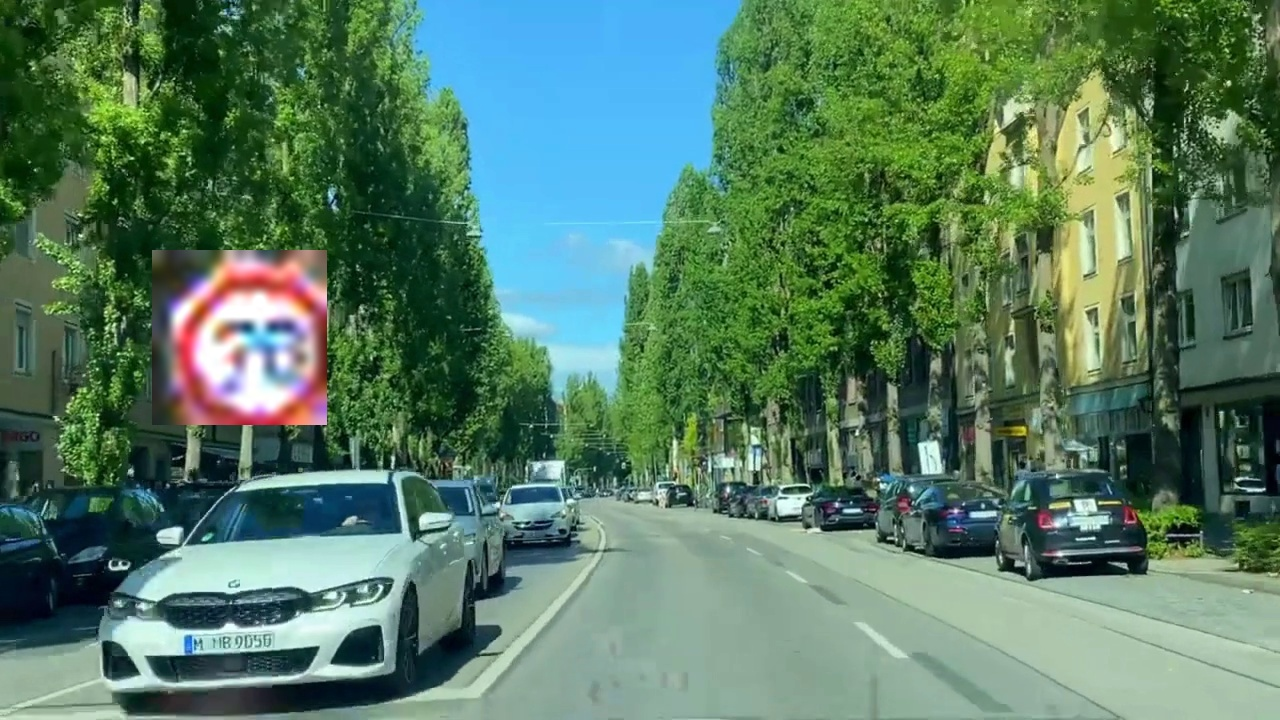Speed 70: (152, 250, 327, 425)
